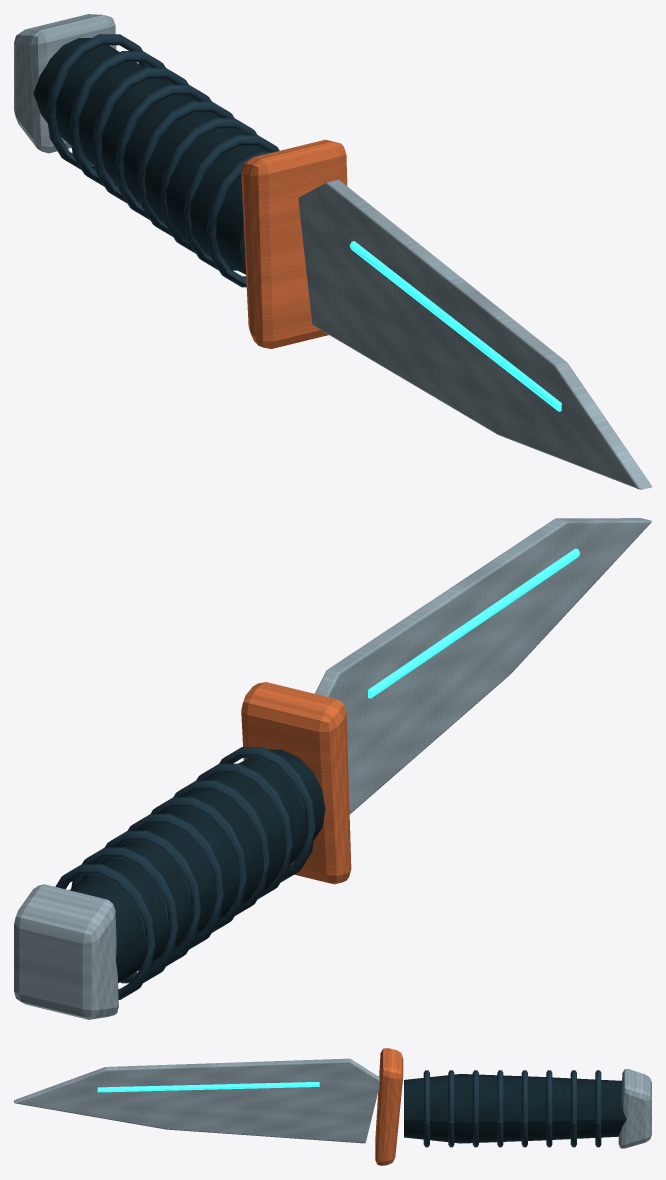
Rendered from weapon_knife.glb.
The picture shows the model from 3 angles, top to bottom: view 1: azimuth 30°, elevation 25°; view 2: azimuth 150°, elevation 25°; view 3: azimuth 270°, elevation 25°; orthographic projection. The views are drawn at different scales.
Parts seen in each view (by area): view 1: weapon_knife; view 2: weapon_knife; view 3: weapon_knife.
Boxes of the visible parts, box(x1,y1,x2,y2) form: weapon_knife: box(14, 14, 651, 489); weapon_knife: box(14, 518, 651, 1019); weapon_knife: box(14, 1048, 651, 1165).
Size of the model in its own units: 0.044 by 0.072 by 0.421.
1 material, 1 textured.
